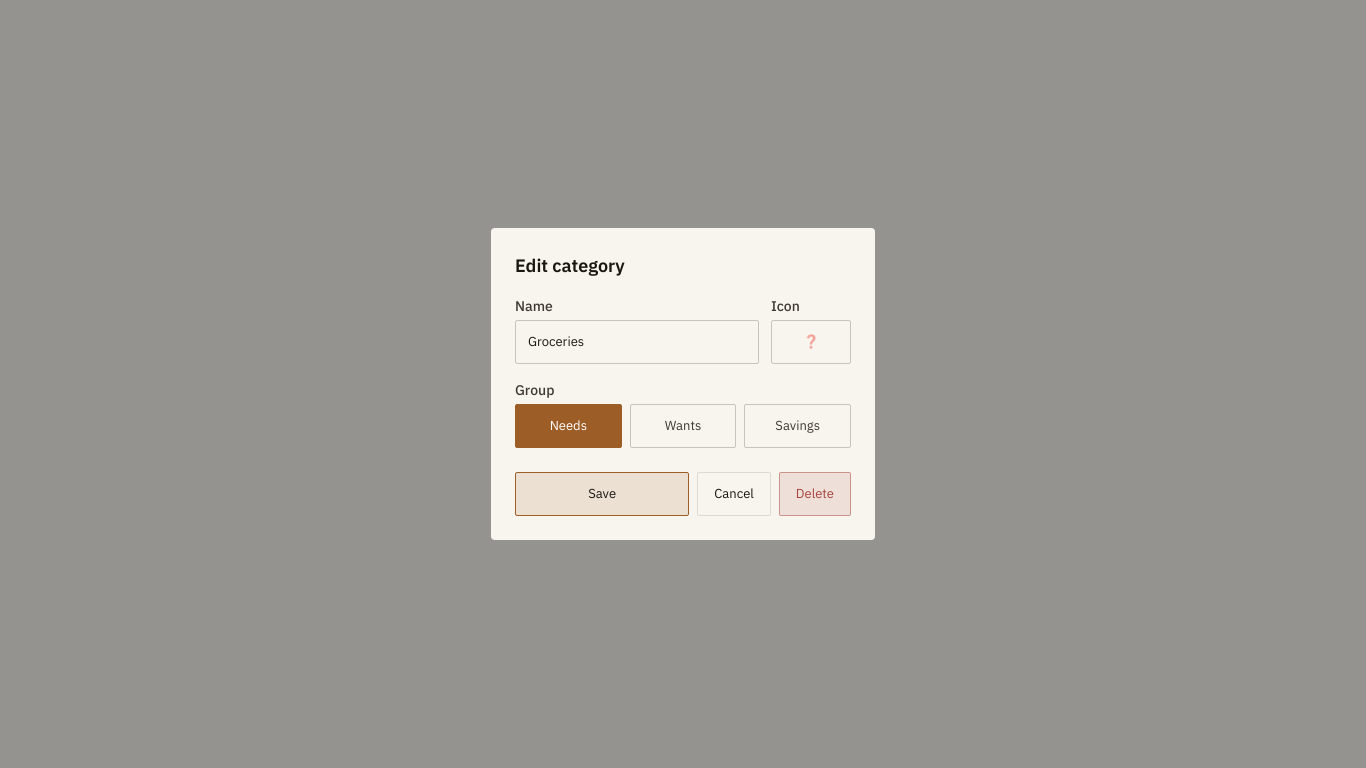
Scenario: CategoryForm action footer › preserves the rejected-save error and finally restores the Save control
This screenshot has width=1366, height=768.
Click the button "Save". click: x=602, y=494
box: [515,472,689,516]
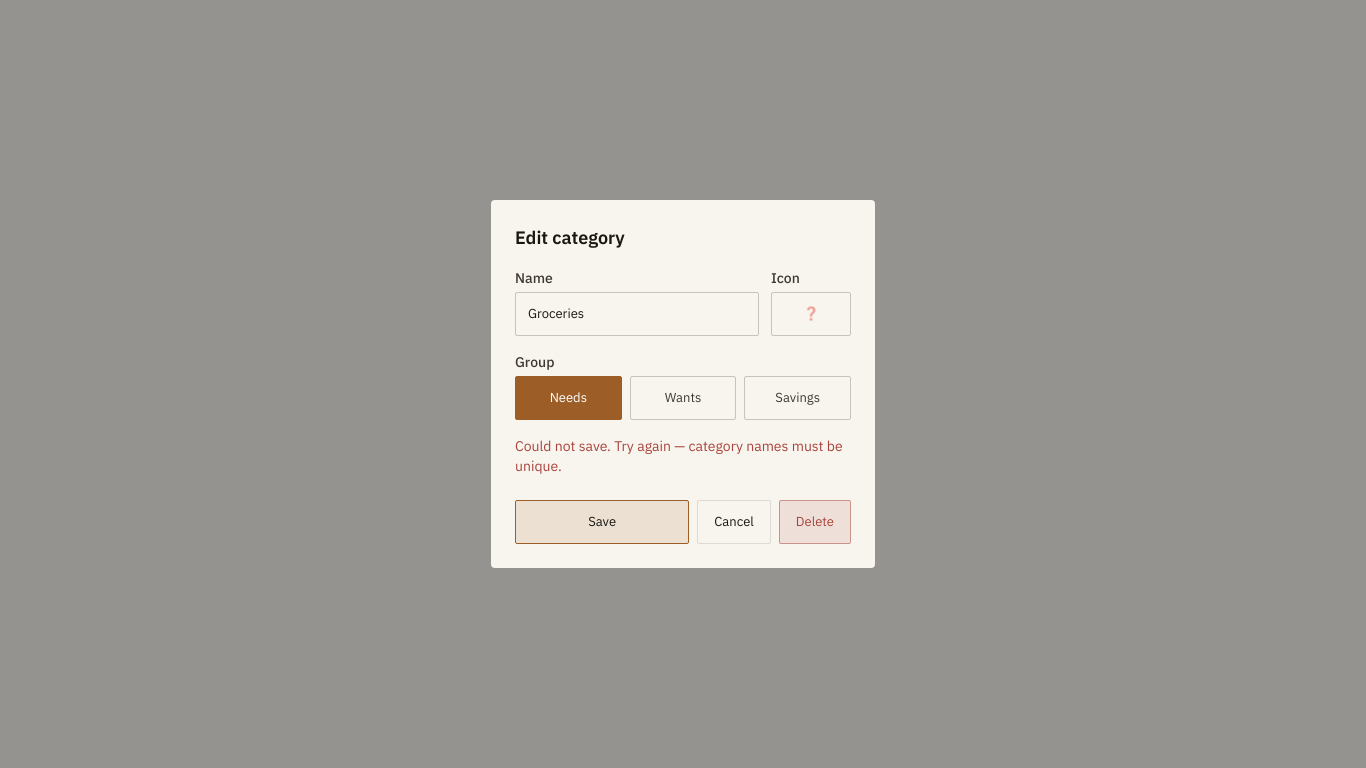
Expected: the button "Save" is enabled, [515,500,689,544]
Result: the text "Could not save. Try again — category names must be unique." is shown at [515,436,851,476]
